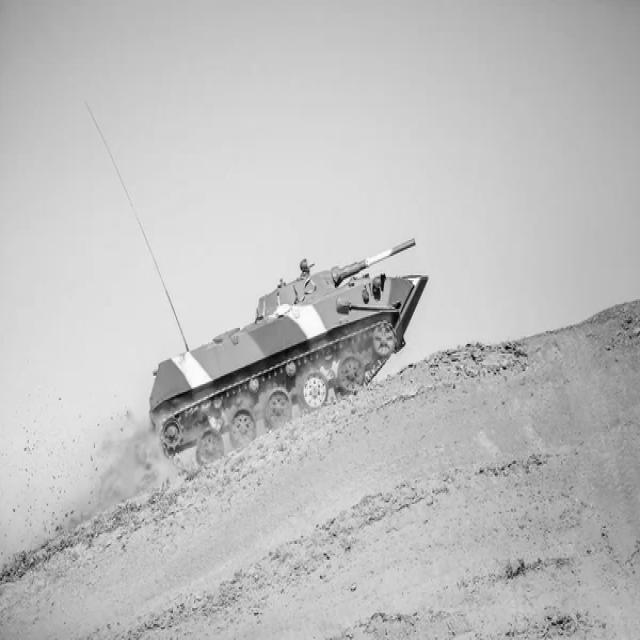Tank: (143, 234, 431, 454)
